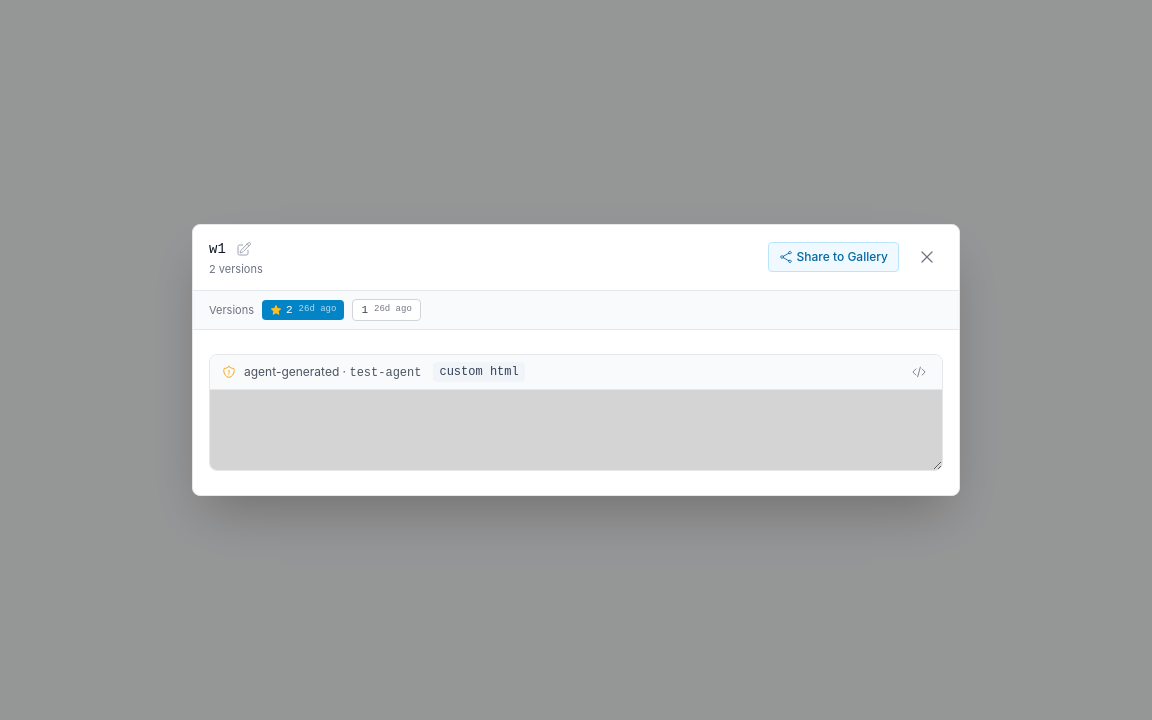
Test: share / unshare flow › Share button posts to /api/widget/share + refreshes local widget state
Click the button with test id "share-btn".
click(833, 257)  # box [768, 242, 899, 272]
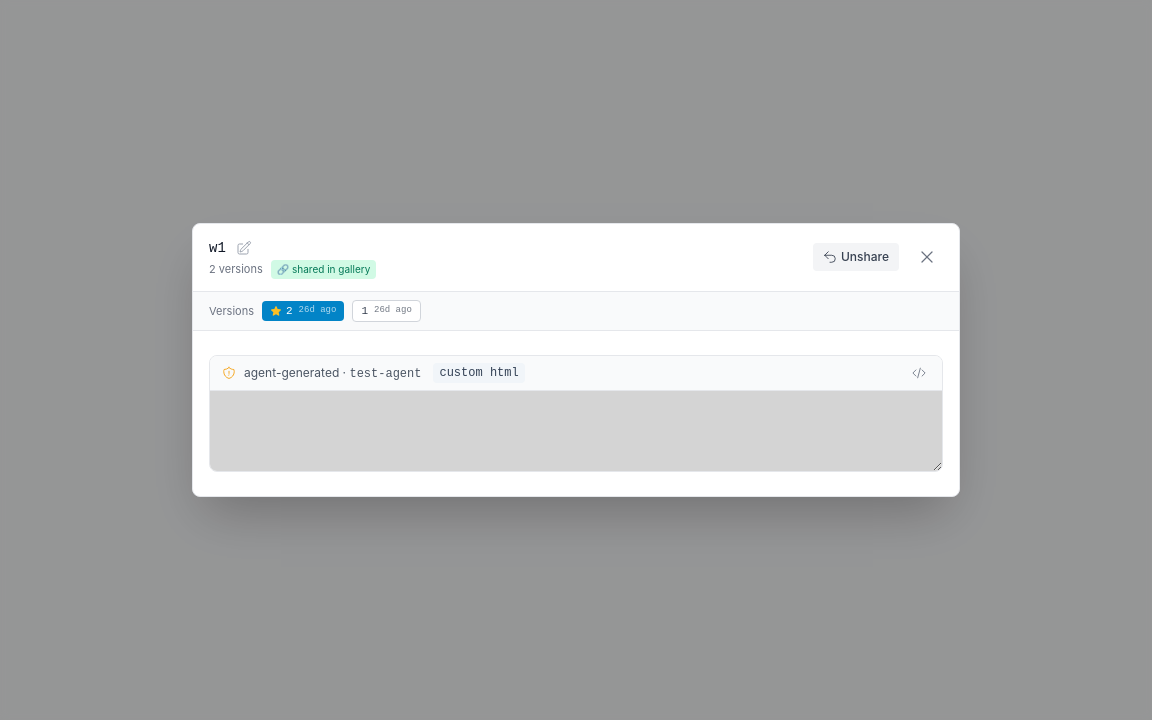
Expected: the text "shared in gallery" is shown, [277, 263, 370, 275]
